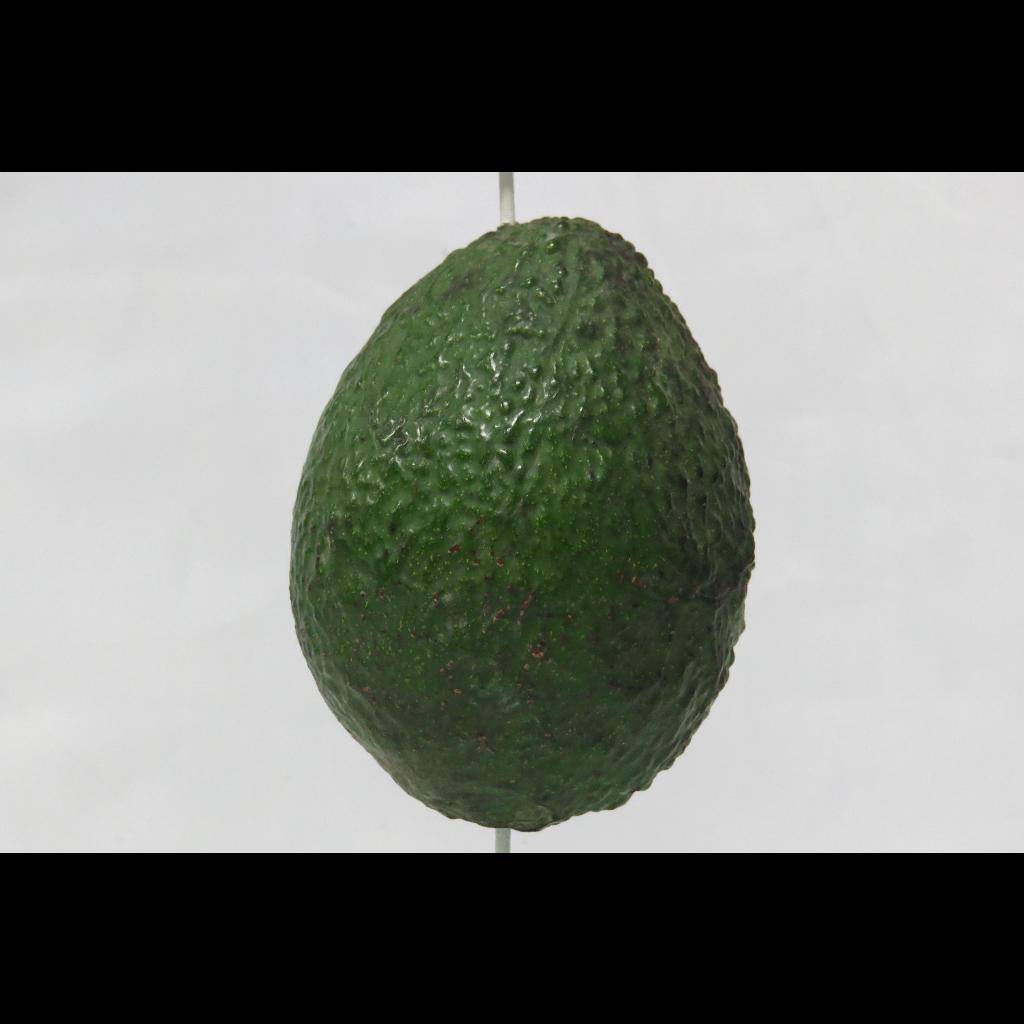Healthy: (230, 182, 784, 836)
